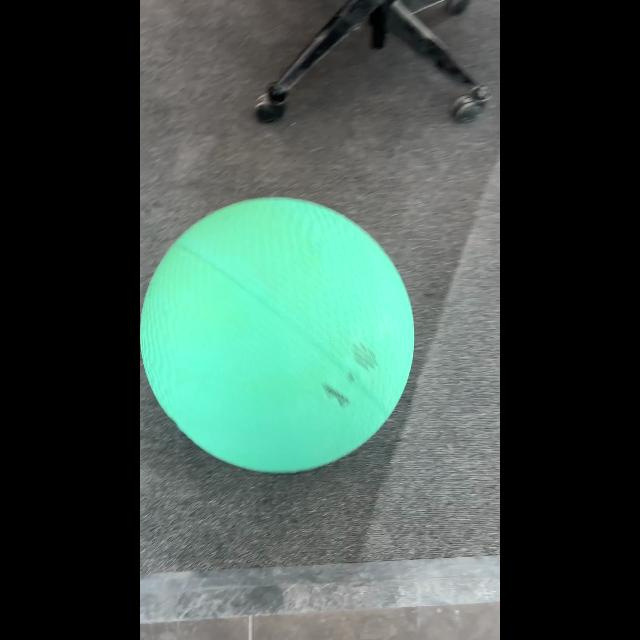ALGAE: (141, 196, 415, 474)
